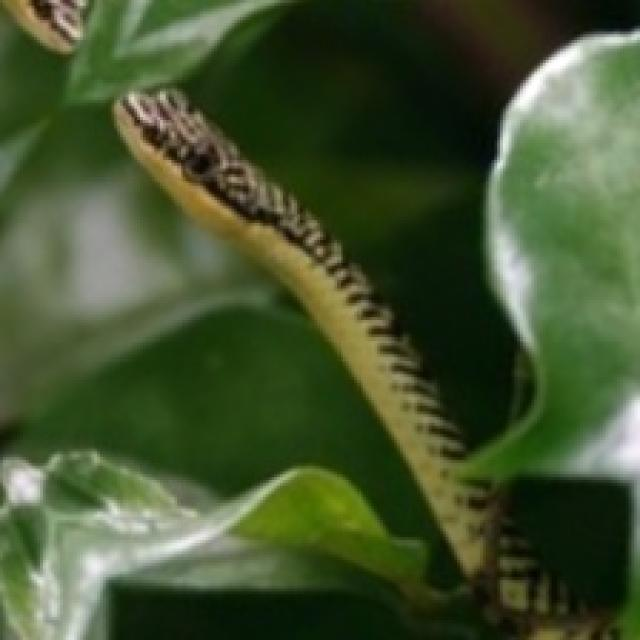paradise tree snake: (0, 0, 637, 637), (114, 89, 554, 614), (109, 83, 517, 580), (489, 86, 637, 400), (109, 551, 420, 637), (566, 149, 637, 394)
